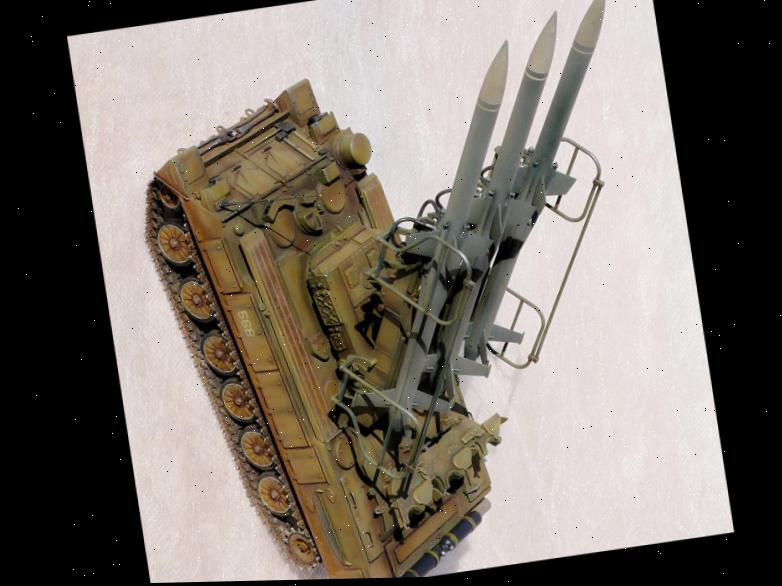armored_car: (106, 0, 700, 584)
